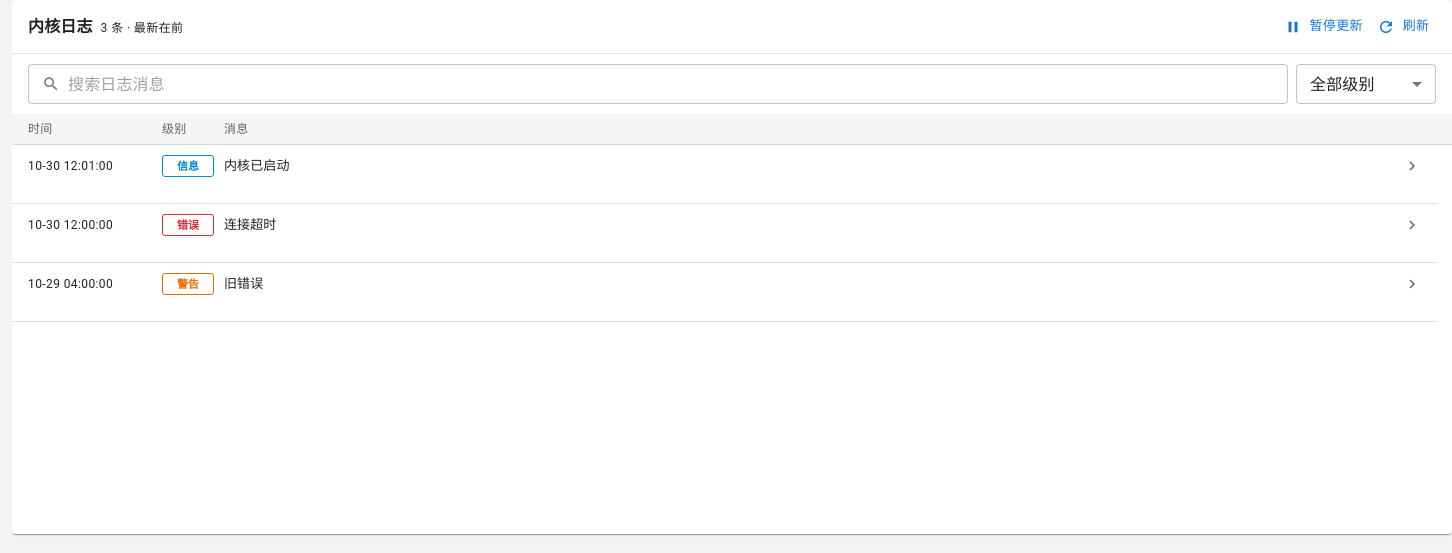
Test: shows latest entries first and expands escaped details only when inspected
Check: the text "第二个地址失败" is not shown
Click the button with aria-label "展开日志：连接超时".
click(71, 225)  # box [12,204,1437,262]
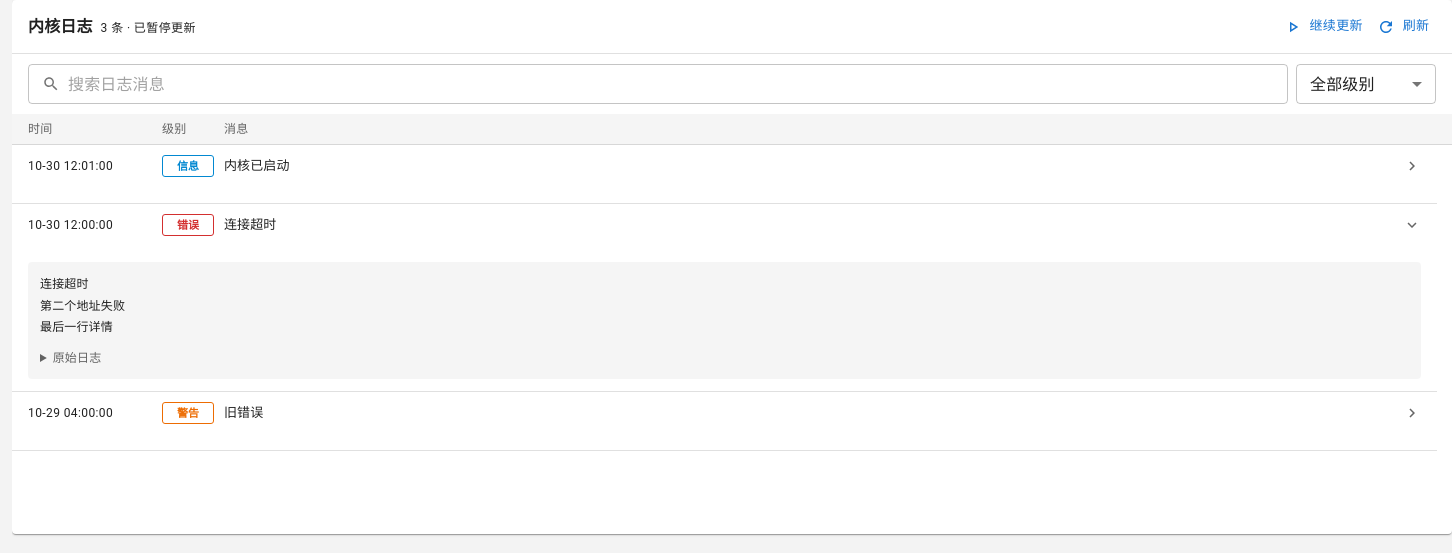
Check: the text "3 条 · 已暂停更新" is shown, box [101,18,196,38]
Check: the button "继续更新" is shown, box [1280,11,1368,42]
